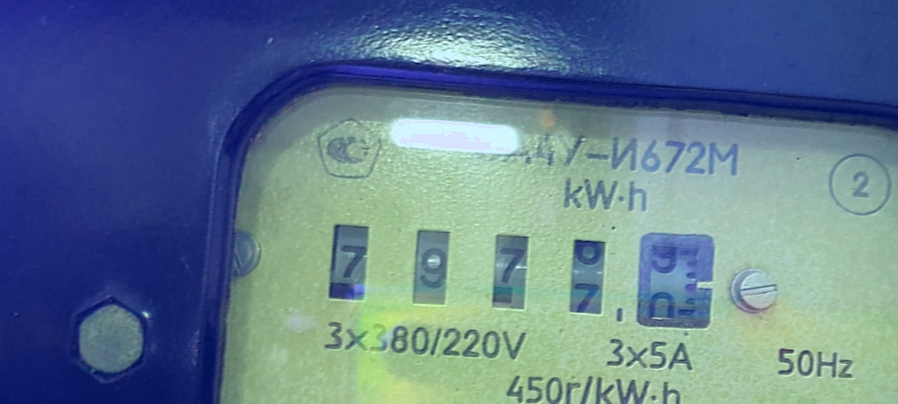0: (645, 287, 679, 326)
7: (336, 242, 368, 285), (495, 245, 527, 288), (570, 280, 602, 317)
9: (416, 245, 451, 292), (649, 240, 681, 276)
screen: (308, 201, 740, 353)
